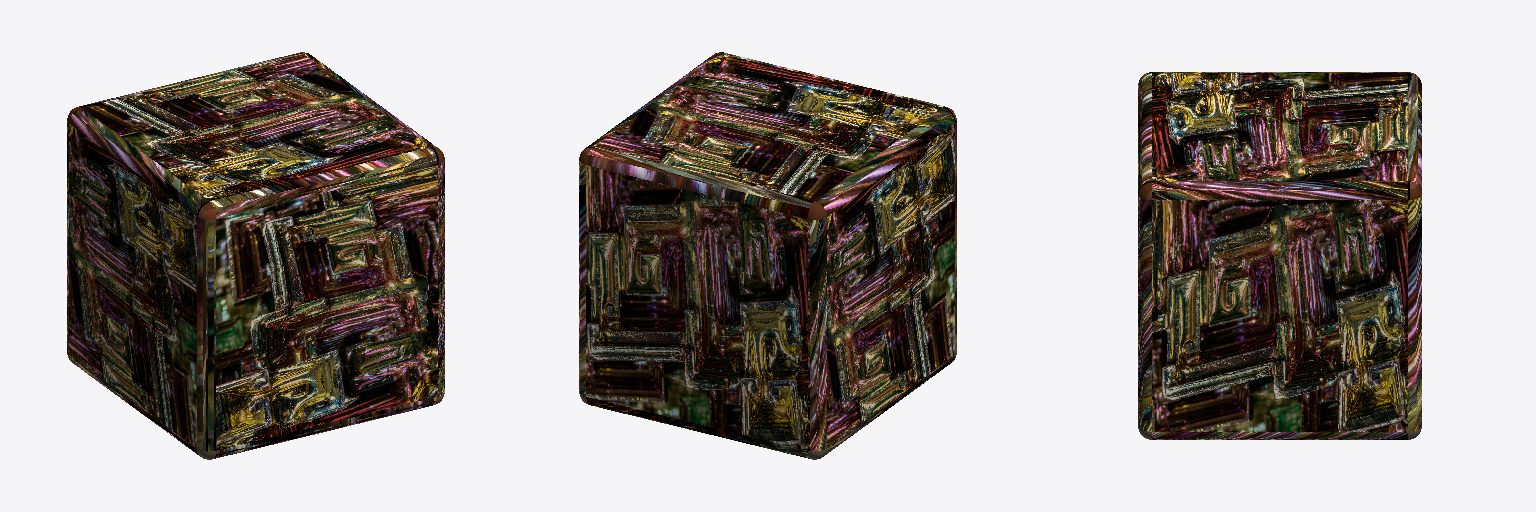
3 views of the same model, side by side, from view 1: azimuth 30°, elevation 25°; view 2: azimuth 150°, elevation 25°; view 3: azimuth 270°, elevation 25° (orthographic).
Visible parts, largest first — view 1: Cube; view 2: Cube; view 3: Cube.
Boxes of the visible parts, x1=… form: Cube: x1=67, y1=52, x2=444, y2=459; Cube: x1=579, y1=52, x2=956, y2=459; Cube: x1=1138, y1=72, x2=1421, y2=439.
Size of the model in its own units: 2 by 2 by 2.
Materials: 1 (1 with a texture image).